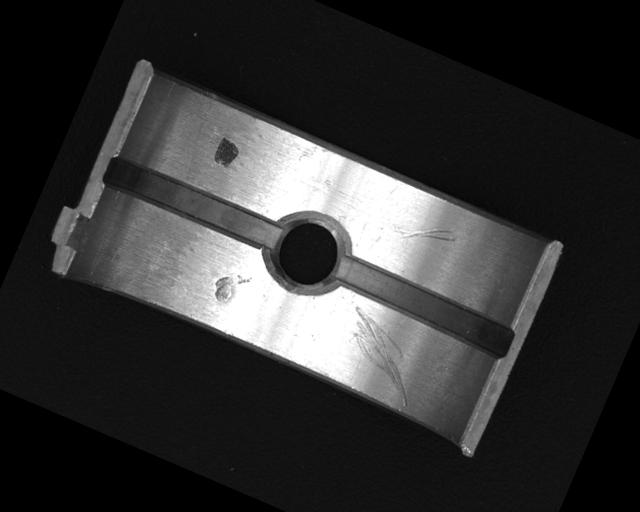blot: (211, 134, 243, 170)
bruise: (209, 264, 252, 310)
gap: (327, 250, 520, 363), (102, 152, 285, 255)
hole: (252, 199, 360, 307)
nick: (326, 304, 436, 406), (392, 208, 458, 259)
